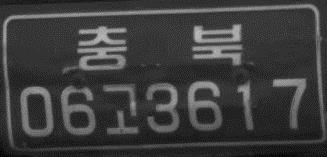0: (19, 83, 55, 139)
1: (235, 78, 260, 135)
3: (145, 80, 180, 134)
6: (59, 82, 98, 139), (184, 79, 224, 134)
7: (270, 75, 309, 132)
고: (101, 81, 142, 137)
충북_D: (76, 22, 245, 74)
